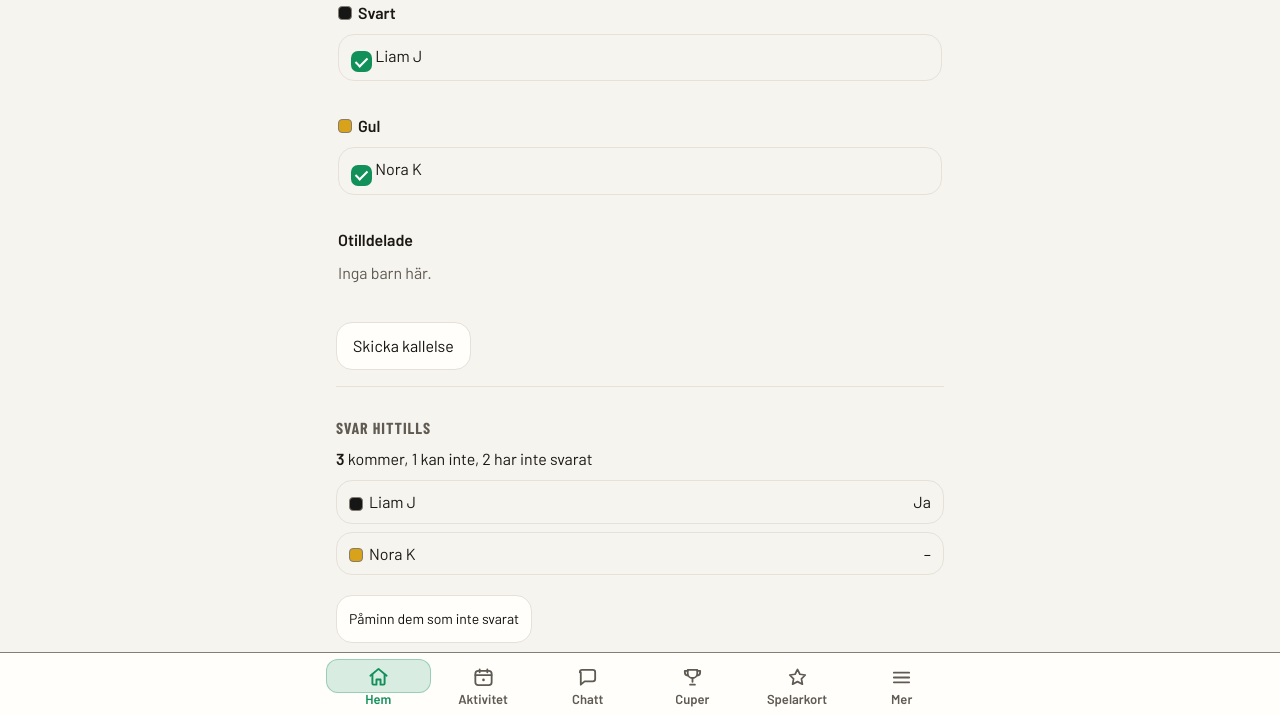
adminen skickar kallelse › visar sammanställningen och kan påminna
The image size is (1280, 715).
(page scrolled)
Check: the text "3" is shown, box [336,449,344,468]
Check: the text "Liam J" is shown, box [349,489,416,514]
Click the button "Påminn dem som inte svarat".
click(434, 619)  # box [336,595,532,643]
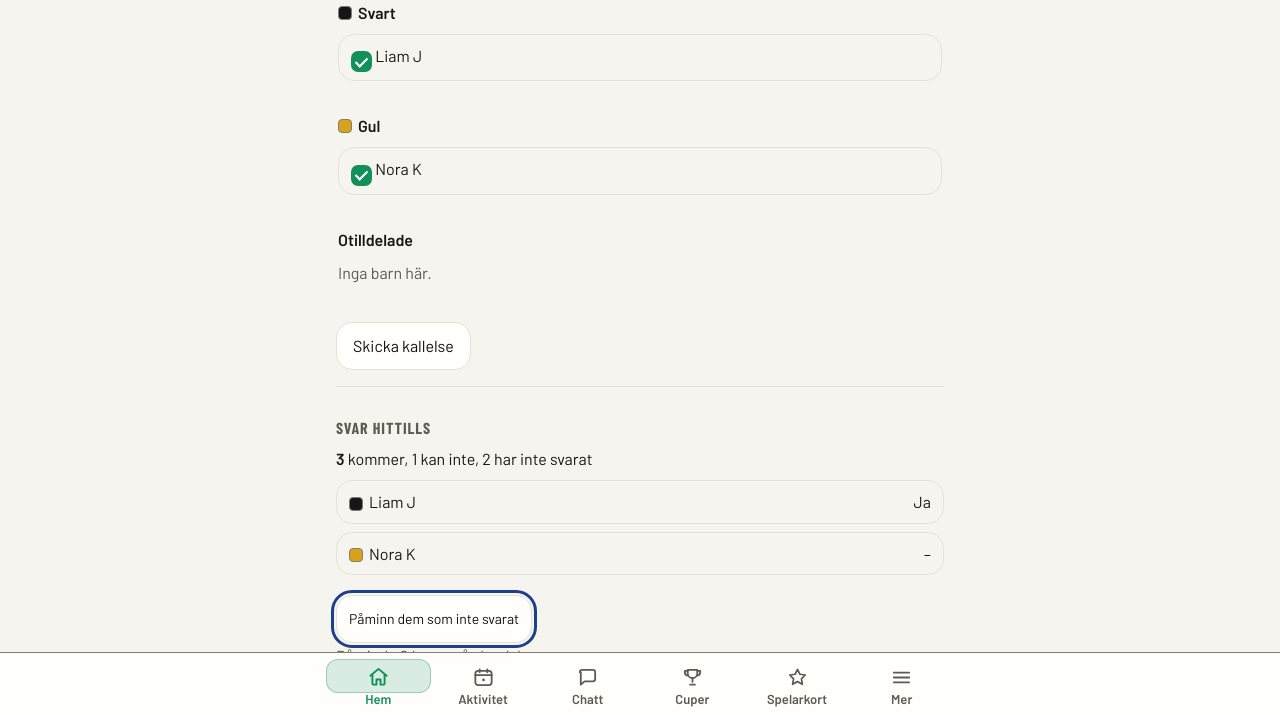
Check: the text "Påminde 2 barns vårdnadshavare." is shown, box [336,646,568,665]
